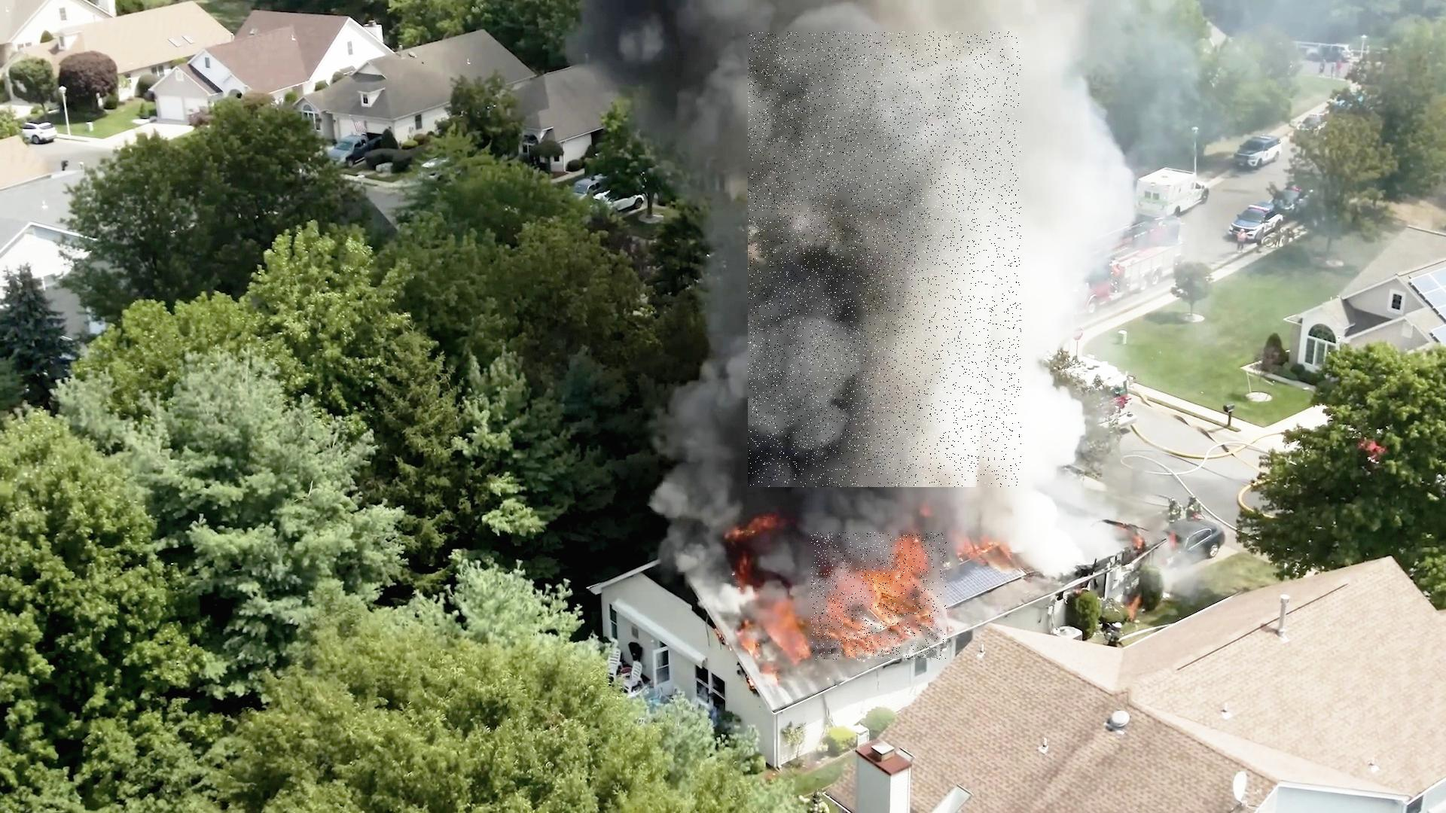fire: (811, 532, 947, 660)
smoke: (748, 32, 1022, 487)
